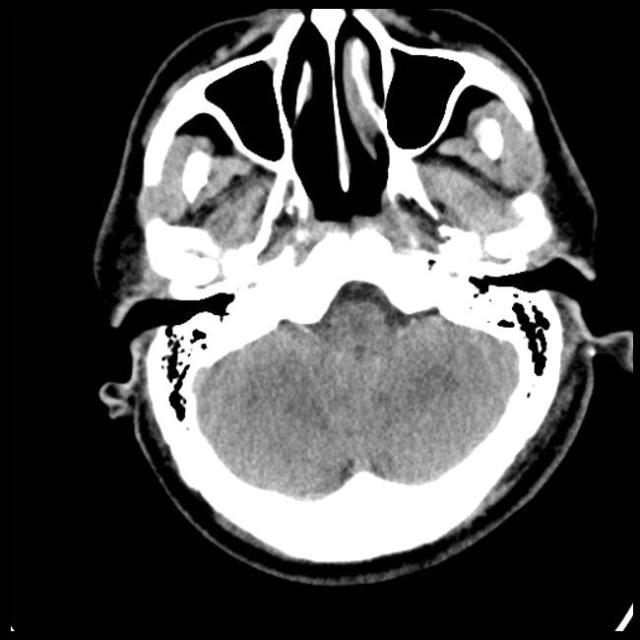lesion: (90, 5, 631, 585)
